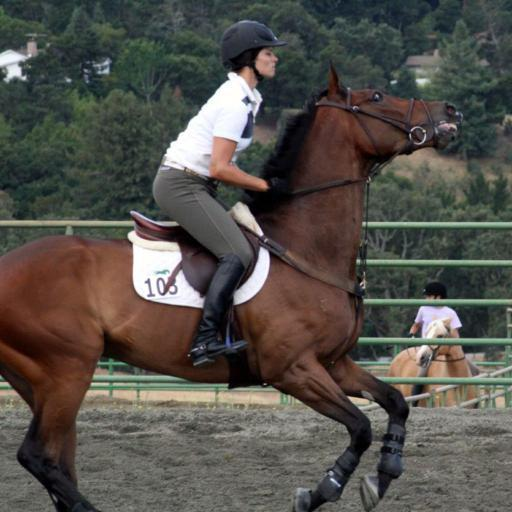horse: (0, 57, 461, 511), (388, 316, 480, 406)
